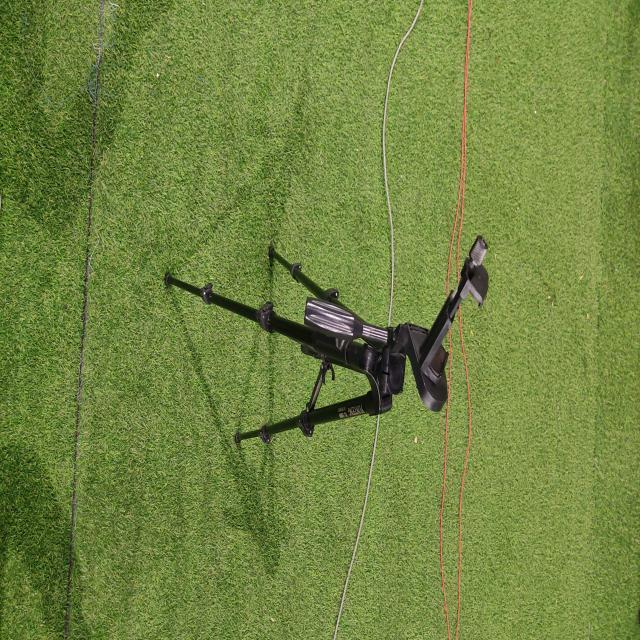Camer Stand: (163, 232, 489, 450)
